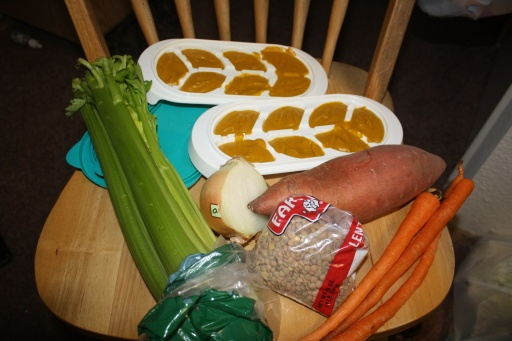background: (50, 28, 379, 181), (46, 13, 259, 84), (35, 15, 243, 70), (39, 12, 181, 50), (72, 24, 249, 52), (36, 12, 179, 37), (27, 19, 150, 46)
